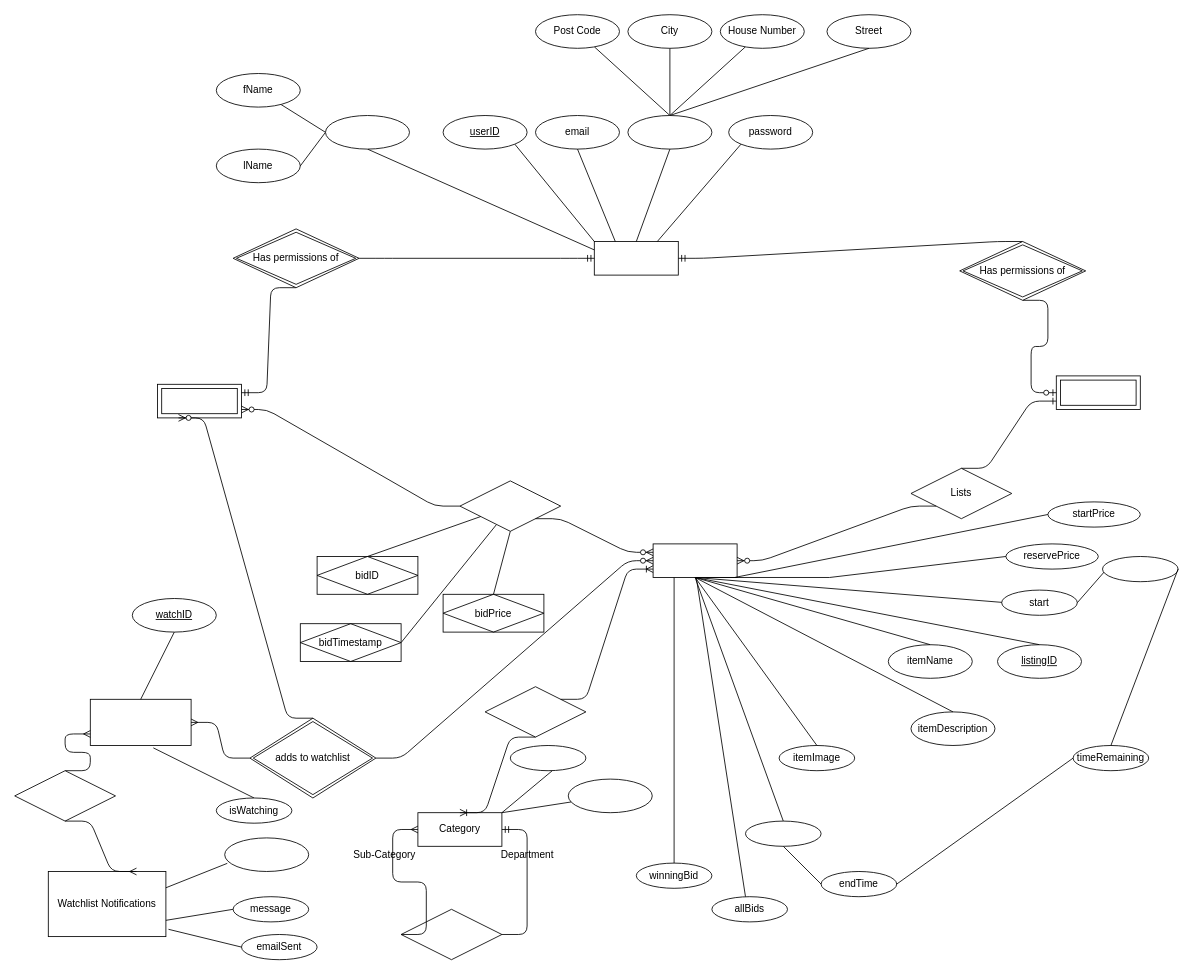
The diagram is 1194 pixels wide and 974 high, and some of its shapes have lost their labels. Each missing label, with the box of its shape:
Belongs to: (484, 686, 586, 737)
Bids/Buys: (459, 480, 561, 531)
Buyer: (157, 383, 242, 418)
categoryID: (567, 778, 652, 813)
categoryName: (509, 745, 586, 771)
Displays: (14, 770, 116, 821)
end: (745, 820, 821, 846)
Has: (400, 908, 502, 960)
homeAddress: (627, 115, 712, 149)
Listing: (652, 543, 737, 578)
name: (325, 115, 410, 149)
notificationID: (224, 837, 309, 872)
Seller: (1055, 375, 1140, 410)
startTime: (1102, 556, 1178, 582)
User: (593, 241, 678, 275)
Watchlist: (89, 698, 191, 746)
